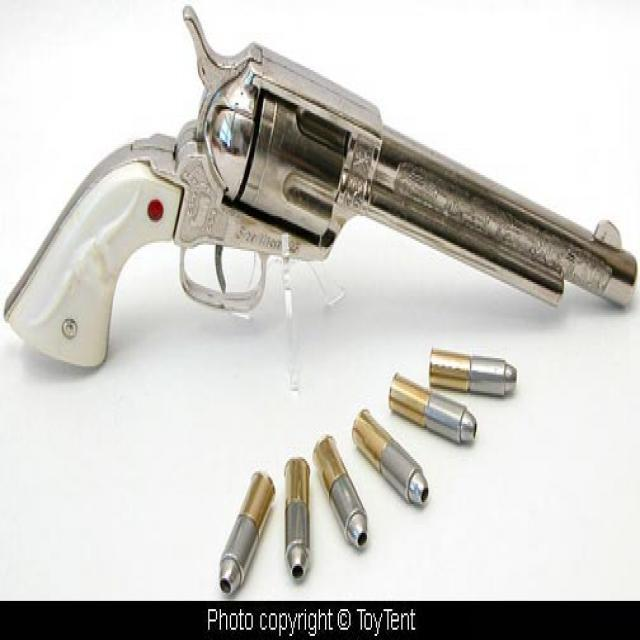weapon: (8, 1, 638, 368)
